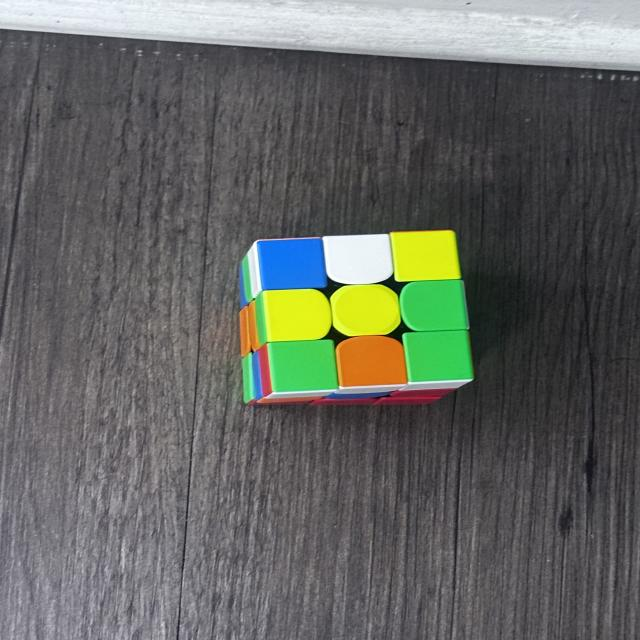sticker: (258, 237, 328, 288), (407, 334, 474, 378), (334, 286, 396, 332), (324, 237, 390, 280), (265, 292, 328, 335), (270, 345, 336, 386), (339, 341, 403, 381), (394, 234, 454, 276), (406, 288, 465, 325)
